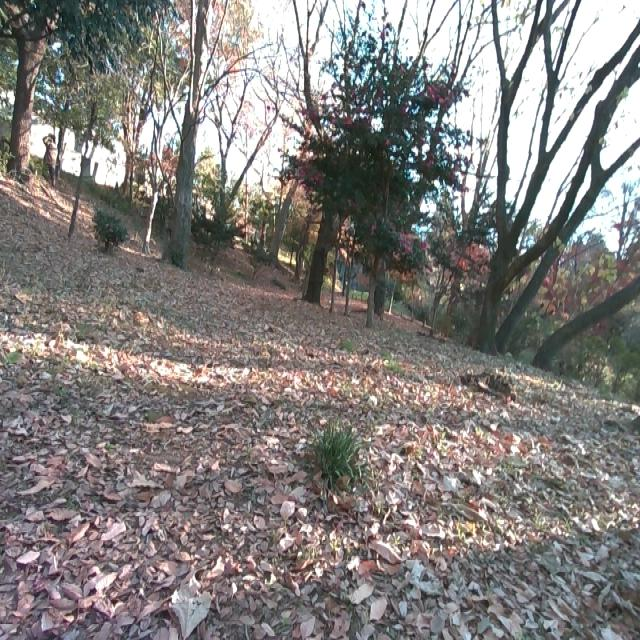bush: (299, 413, 388, 492), (89, 212, 135, 250)
tree: (451, 0, 640, 357), (291, 0, 381, 309), (168, 0, 240, 276), (204, 25, 287, 256), (0, 1, 68, 205), (134, 60, 171, 255), (359, 266, 385, 336)
